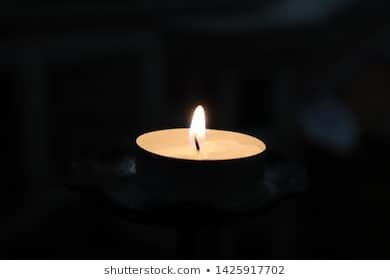fire: (186, 100, 208, 146)
